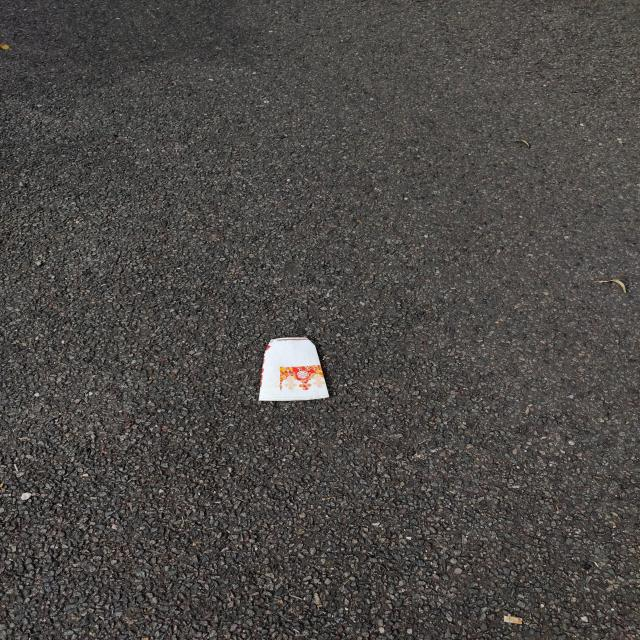litter: (258, 337, 330, 401)
